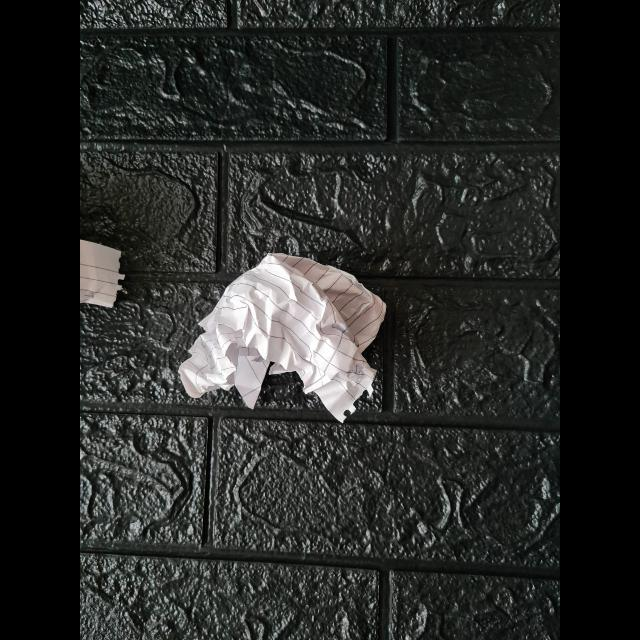scrap_paper: (184, 250, 383, 410)
